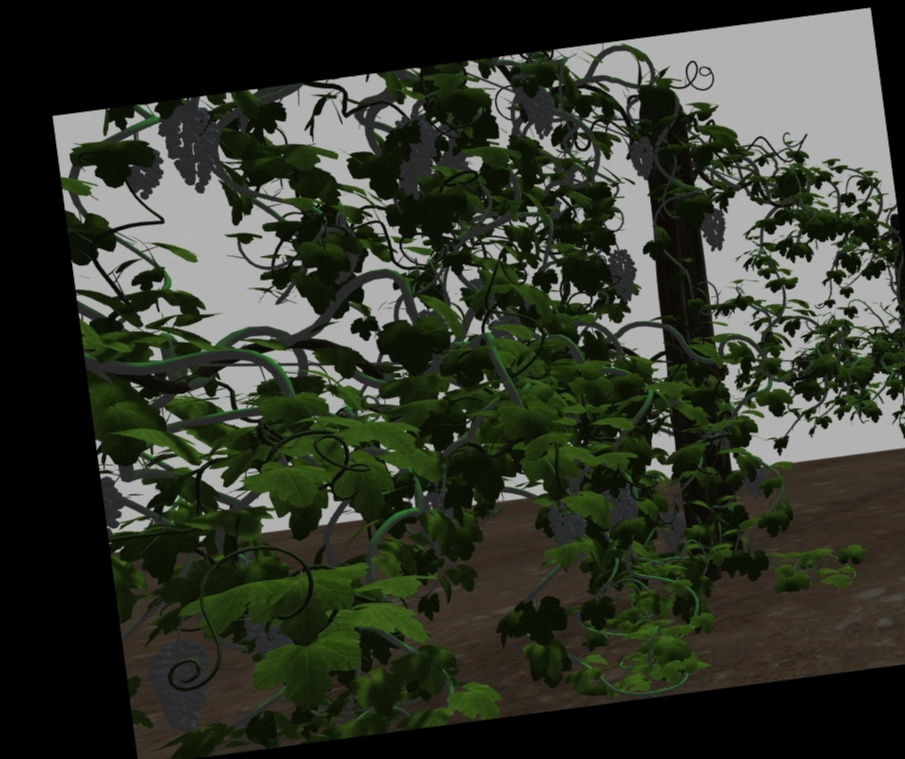grape: (148, 642, 218, 729), (160, 100, 221, 195), (391, 111, 443, 199), (514, 76, 558, 141), (548, 498, 589, 550), (607, 247, 639, 303), (601, 482, 637, 530), (659, 511, 689, 559), (700, 204, 728, 253), (628, 136, 655, 183), (743, 465, 770, 500)
